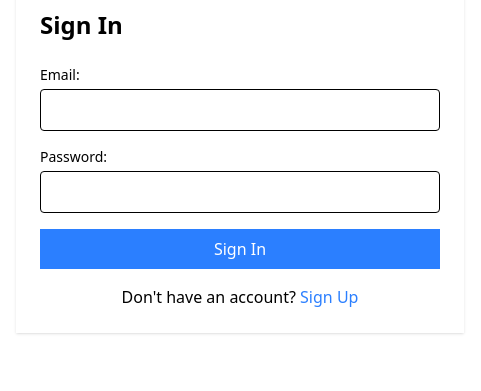
@/pages/SignIn › displays an error message and logs error on sign in failure
Type "test@example.com" into the field labelled "Email:".
click(240, 110); type("test@example.com")  # box [40,89,440,131]
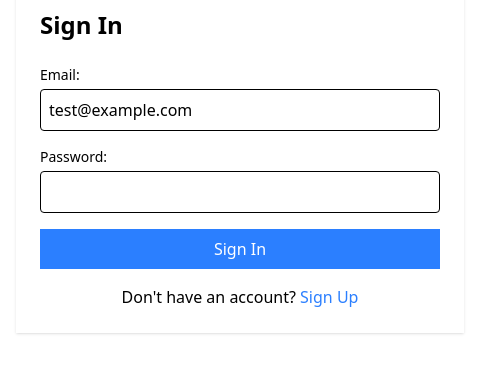
Type "wrongpassword" into the password field labelled "Password:".
click(240, 192); type("wrongpassword")  # box [40,171,440,213]
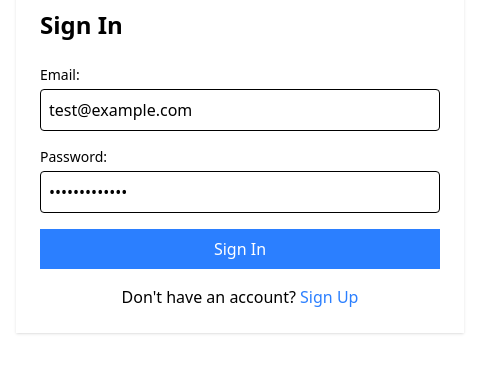
Submit the form labelled "Email:", box [40,65,440,269]
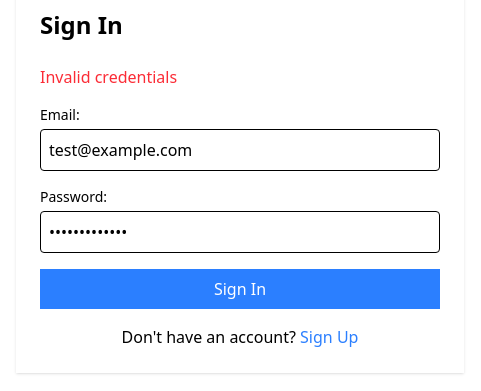
Expected: the text "Invalid credentials" is shown, [40,66,177,88]
